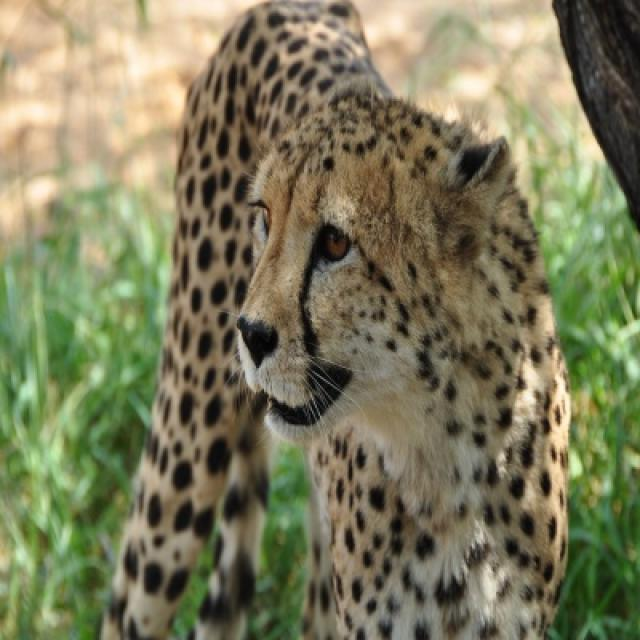Cheetah: (98, 4, 581, 638)
